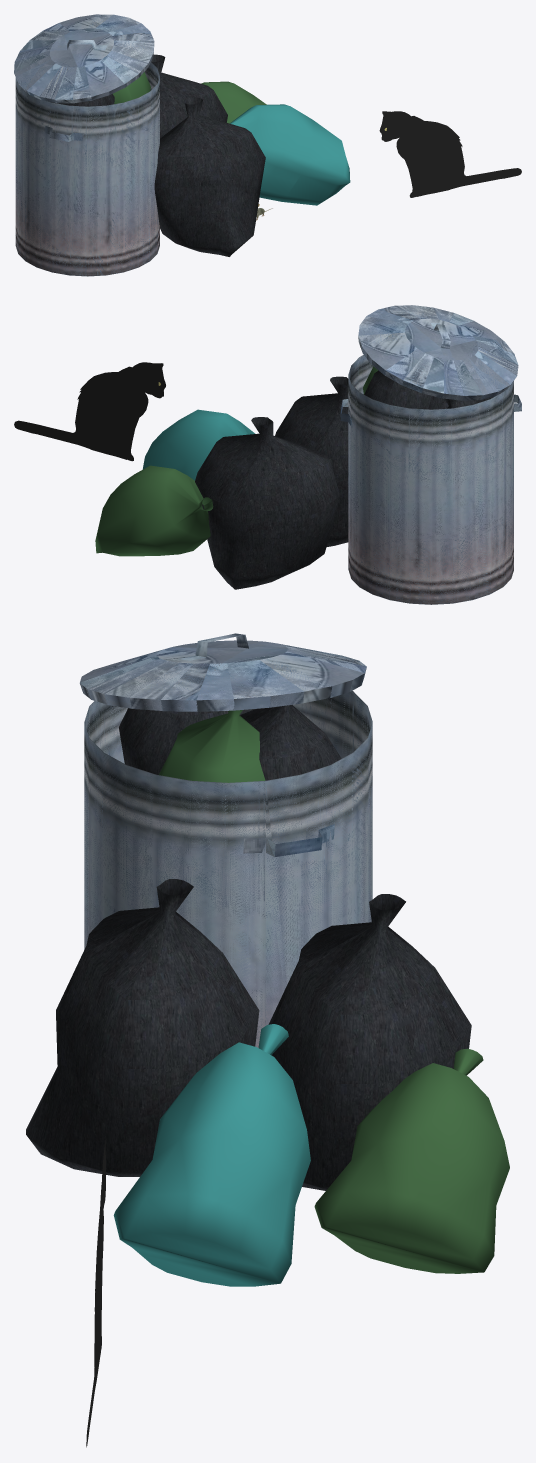
3 views of the same model, one above another, from view 1: azimuth 30°, elevation 25°; view 2: azimuth 150°, elevation 25°; view 3: azimuth 270°, elevation 25° (orthographic). The views are drawn at different scales.
Visible parts, largest first — view 1: SketchUp, Composant_3 (×2), Composant_2 (×3), Composant_5, _2D_Animal_Cat_Cleo, Composant_6, garbage_bag_1, garbage_bag; view 2: SketchUp, Composant_3 (×2), Composant_2, Composant_6, _2D_Animal_Cat_Cleo, Composant_5, garbage_bag; view 3: Composant_3 (×2), SketchUp, Composant_5, Composant_6, Composant_2, garbage_bag (×2), garbage_bag_1, _2D_Animal_Cat_Cleo.
Boxes of the visible parts, box(x1,y1,x2,y2) form: SketchUp: box(15, 62, 159, 276); Composant_3 (×2): box(151, 54, 265, 256); Composant_2 (×3): box(14, 14, 154, 103); Composant_5: box(230, 104, 350, 205); _2D_Animal_Cat_Cleo: box(379, 111, 521, 197); Composant_6: box(201, 81, 266, 123); garbage_bag_1: box(113, 72, 150, 103); garbage_bag: box(51, 94, 114, 106); SketchUp: box(348, 355, 513, 604); Composant_3 (×2): box(195, 376, 348, 589); Composant_2: box(358, 305, 518, 400); Composant_6: box(95, 465, 213, 556); _2D_Animal_Cat_Cleo: box(14, 362, 165, 461); Composant_5: box(142, 409, 255, 480); garbage_bag: box(364, 370, 432, 409); Composant_3 (×2): box(26, 879, 471, 1190); SketchUp: box(84, 691, 372, 1047); Composant_5: box(113, 1024, 310, 1286); Composant_6: box(314, 1048, 509, 1273); Composant_2: box(80, 640, 366, 711); garbage_bag (×2): box(119, 705, 341, 780); garbage_bag_1: box(159, 710, 265, 782); _2D_Animal_Cat_Cleo: box(86, 1136, 106, 1447).
Size of the model in its own units: 73.08 by 33.06 by 32.08.
